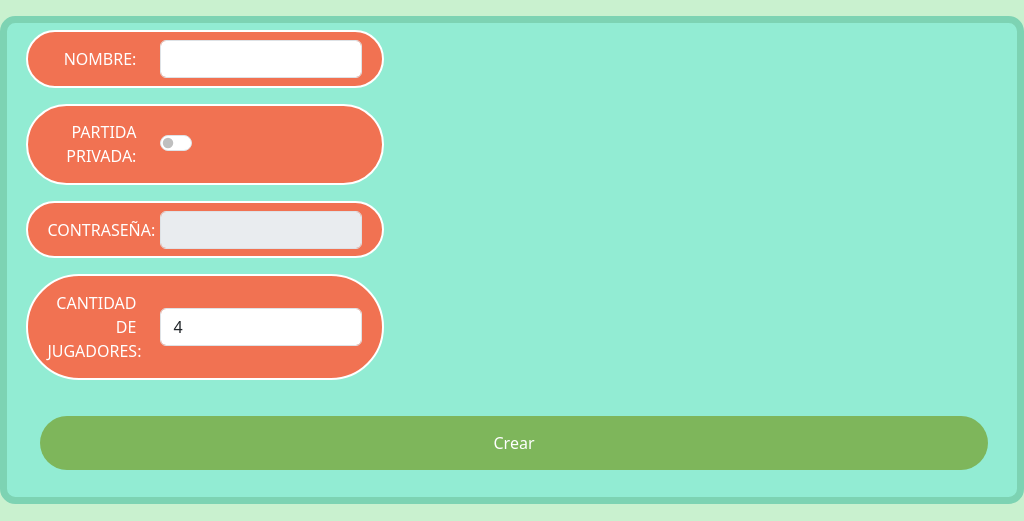
Test: CreateGame Component › shoulde update number of players on change
The width and height of the screenshot is (1024, 521).
Replace the text in the number field with "3" at [261, 327], box x1=160 y1=308 x2=362 y2=346
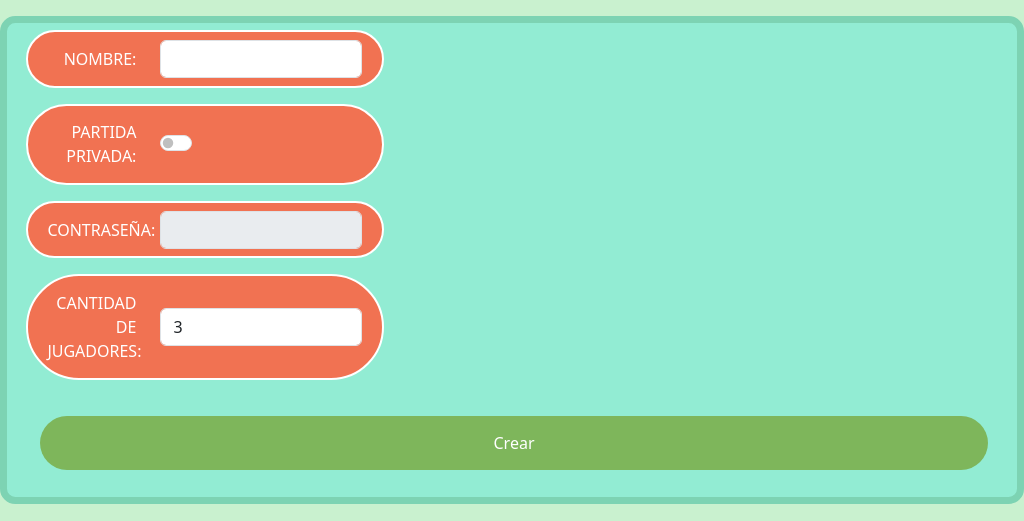
Replace the text in the number field with "5" at [261, 327], box x1=160 y1=308 x2=362 y2=346
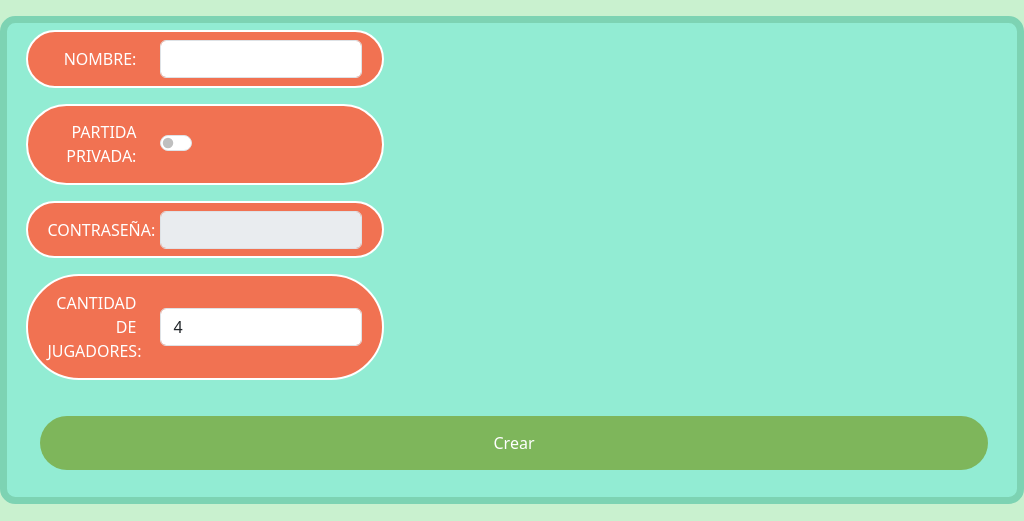
Result: the number field holds "4"
Replace the text in the number field with "1" at [261, 327], box x1=160 y1=308 x2=362 y2=346
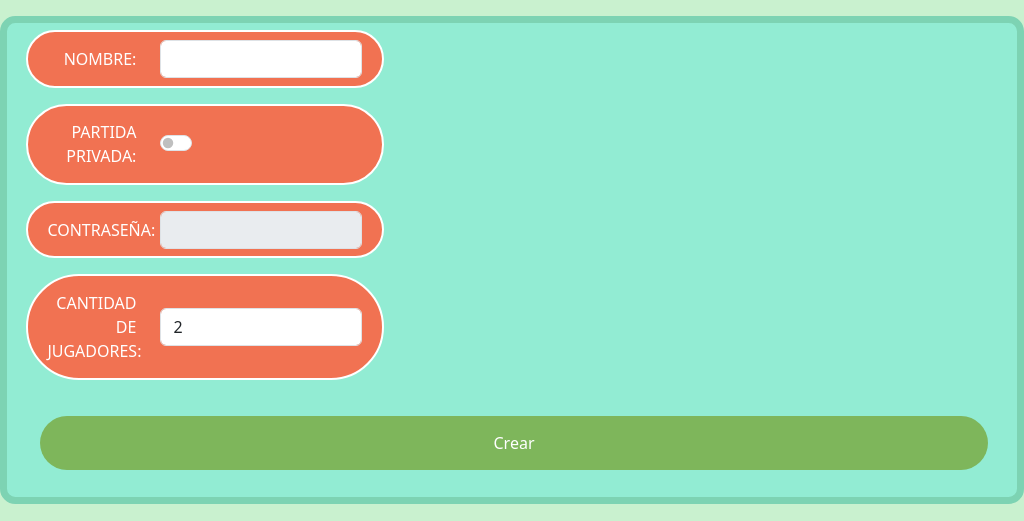
Result: the number field holds "2" at x1=160 y1=308 x2=362 y2=346
